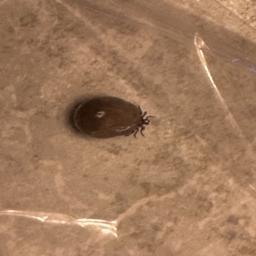Ixodes scapularis: (73, 100, 155, 138)
